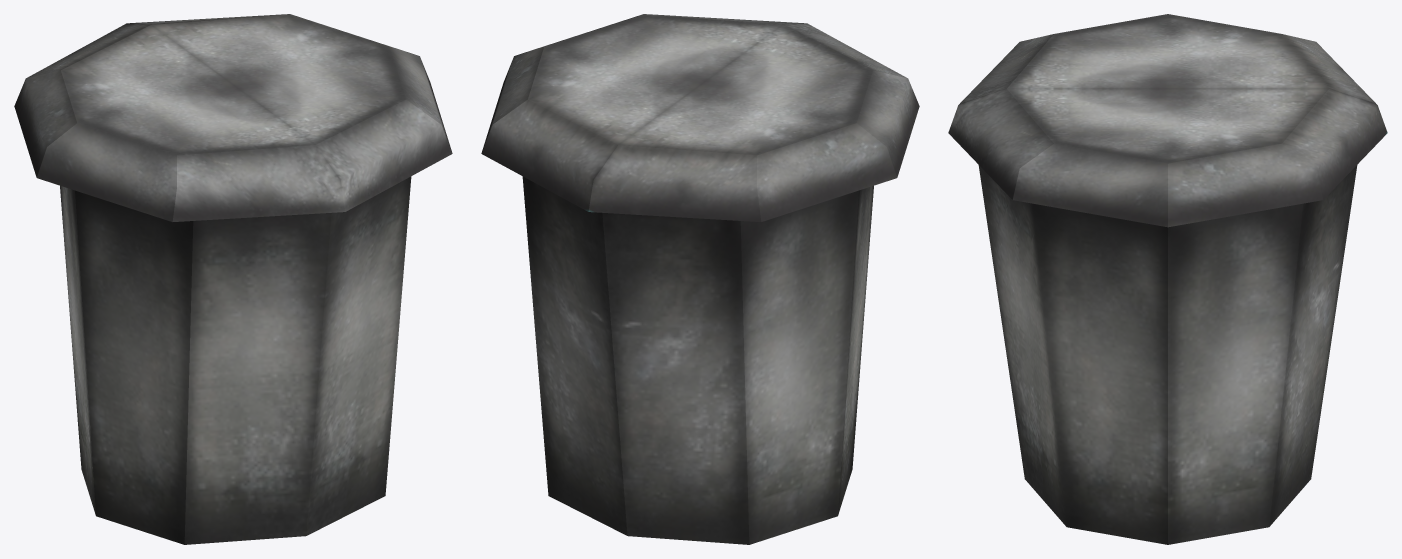
File: trashcan.fbx
3 views of the same model, side by side, from view 1: azimuth 30°, elevation 25°; view 2: azimuth 150°, elevation 25°; view 3: azimuth 270°, elevation 25° (orthographic).
Parts seen in each view (by area): view 1: polySurface8; view 2: polySurface8; view 3: polySurface8.
Boxes of the visible parts, x1,y1,x2,y2 form: polySurface8: (14, 14, 452, 544); polySurface8: (481, 14, 919, 544); polySurface8: (948, 14, 1387, 544).
Bounding box in the file's own units: 2.29 × 2.21 × 2.25.
